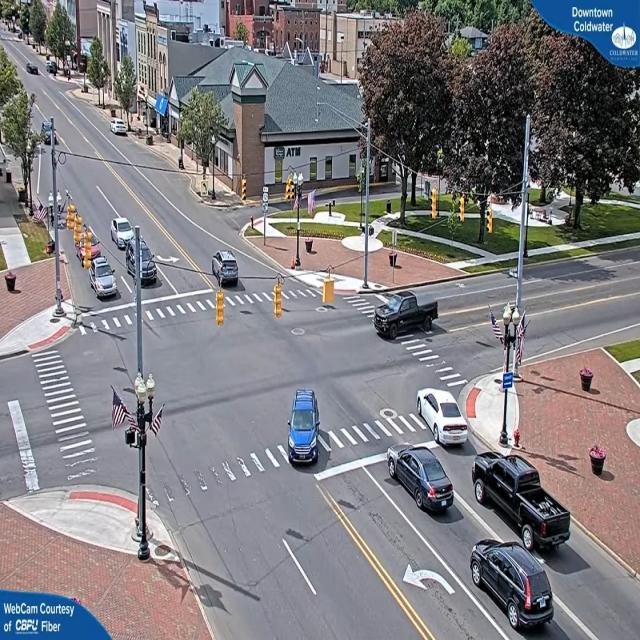car: (472, 451, 573, 557), (472, 540, 555, 634), (388, 443, 458, 515), (417, 389, 472, 448), (374, 294, 438, 342), (288, 389, 320, 467), (90, 258, 119, 300), (214, 250, 242, 287), (111, 218, 136, 252), (112, 120, 128, 136)
